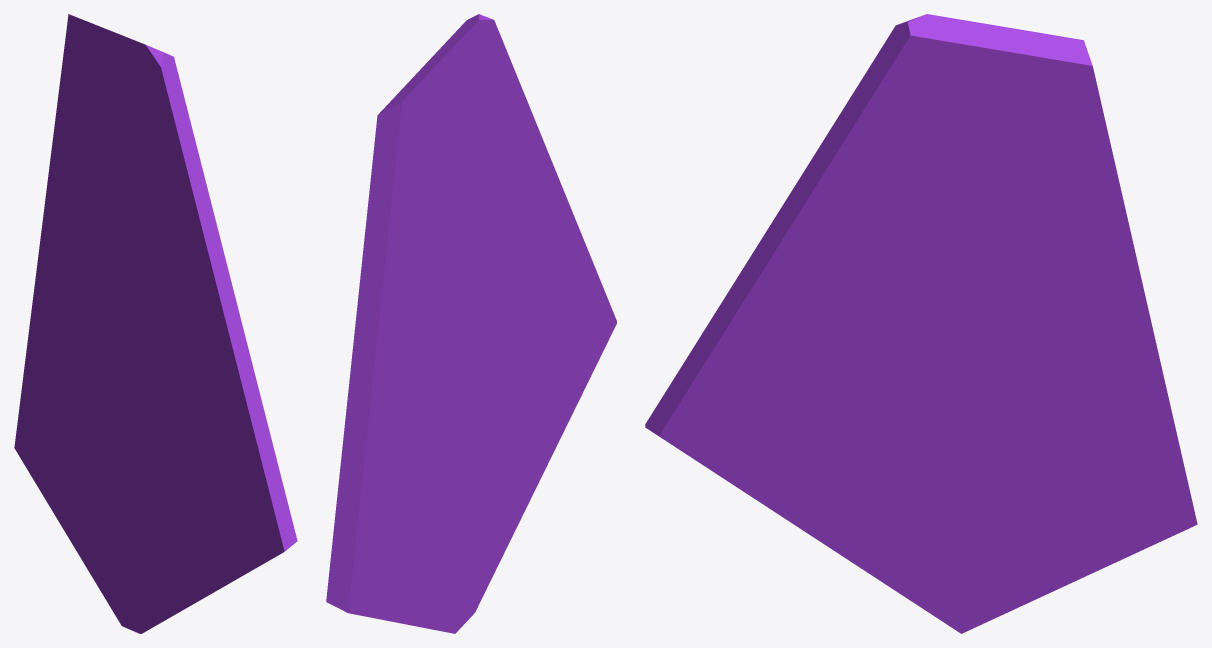
The model's file is Glass_84_5_6_chunks.fbx.
The picture shows the model from 3 angles, left to right: view 1: azimuth 30°, elevation 25°; view 2: azimuth 150°, elevation 25°; view 3: azimuth 270°, elevation 25°; orthographic projection. The views are drawn at different scales.
Visible parts, largest first — view 1: Glass_84_5_6_2, Glass_84_5_6_1, Glass_84_5_6_0, Glass_84_5_6_4, Glass_84_5_6_6, Glass_84_5_6_3, Glass_84_5_6_5; view 2: Glass_84_5_6_1, Glass_84_5_6_2, Glass_84_5_6_4, Glass_84_5_6_0, Glass_84_5_6_6, Glass_84_5_6_3, Glass_84_5_6_5; view 3: Glass_84_5_6_1, Glass_84_5_6_2, Glass_84_5_6_4, Glass_84_5_6_0, Glass_84_5_6_6, Glass_84_5_6_5.
Part boxes in pixels (x1,y1,x2,y2): Glass_84_5_6_2: (105, 28, 272, 441); Glass_84_5_6_1: (14, 373, 211, 633); Glass_84_5_6_0: (142, 353, 297, 593); Glass_84_5_6_4: (16, 175, 133, 429); Glass_84_5_6_6: (48, 14, 123, 212); Glass_84_5_6_3: (90, 171, 133, 301); Glass_84_5_6_5: (116, 249, 147, 377); Glass_84_5_6_1: (326, 353, 544, 633); Glass_84_5_6_2: (414, 14, 583, 323); Glass_84_5_6_4: (329, 269, 466, 591); Glass_84_5_6_0: (475, 239, 616, 470); Glass_84_5_6_6: (359, 63, 456, 291); Glass_84_5_6_3: (423, 177, 467, 318); Glass_84_5_6_5: (450, 240, 481, 368); Glass_84_5_6_1: (767, 344, 1197, 633); Glass_84_5_6_2: (710, 14, 1018, 362); Glass_84_5_6_4: (968, 230, 1190, 495); Glass_84_5_6_0: (645, 317, 884, 506); Glass_84_5_6_6: (982, 28, 1130, 238); Glass_84_5_6_5: (934, 180, 1035, 363).
Size of the model in its own units: 27.2 by 770 by 628.
